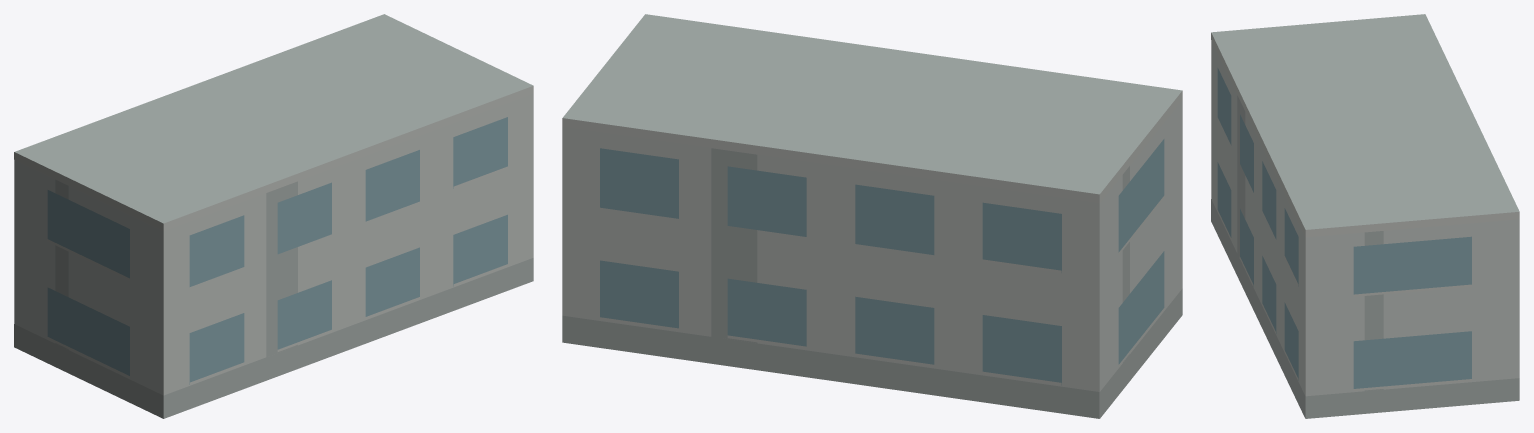
The model's file is residential-95fda940-39f0-4e81-a0d1-f379b18af9ac.glb.
The picture shows the model from 3 angles, left to right: view 1: azimuth 30°, elevation 25°; view 2: azimuth 150°, elevation 25°; view 3: azimuth 270°, elevation 25°; orthographic projection. The views are drawn at different scales.
Visible parts, largest first — view 1: residential-95fda940-39f0-4e81-a0d1-f379b18af9ac.tmp; view 2: residential-95fda940-39f0-4e81-a0d1-f379b18af9ac.tmp; view 3: residential-95fda940-39f0-4e81-a0d1-f379b18af9ac.tmp.
Part boxes in pixels (box(x1,y1,x2,y2)): residential-95fda940-39f0-4e81-a0d1-f379b18af9ac.tmp: box(14, 14, 533, 418); residential-95fda940-39f0-4e81-a0d1-f379b18af9ac.tmp: box(562, 14, 1182, 418); residential-95fda940-39f0-4e81-a0d1-f379b18af9ac.tmp: box(1211, 14, 1519, 418).
Bounding box in the file's own units: 14.96 × 6.1 × 9.04.
